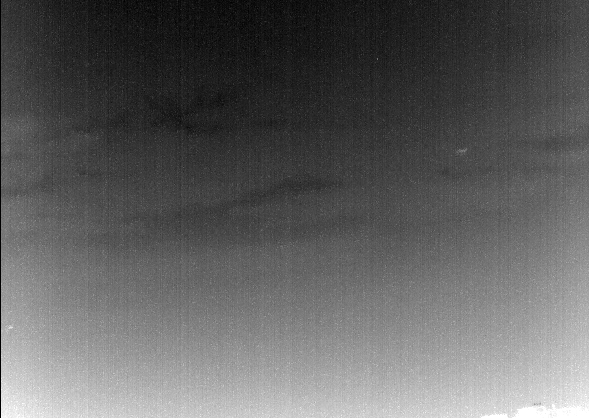dim target: (457, 148, 468, 154)
